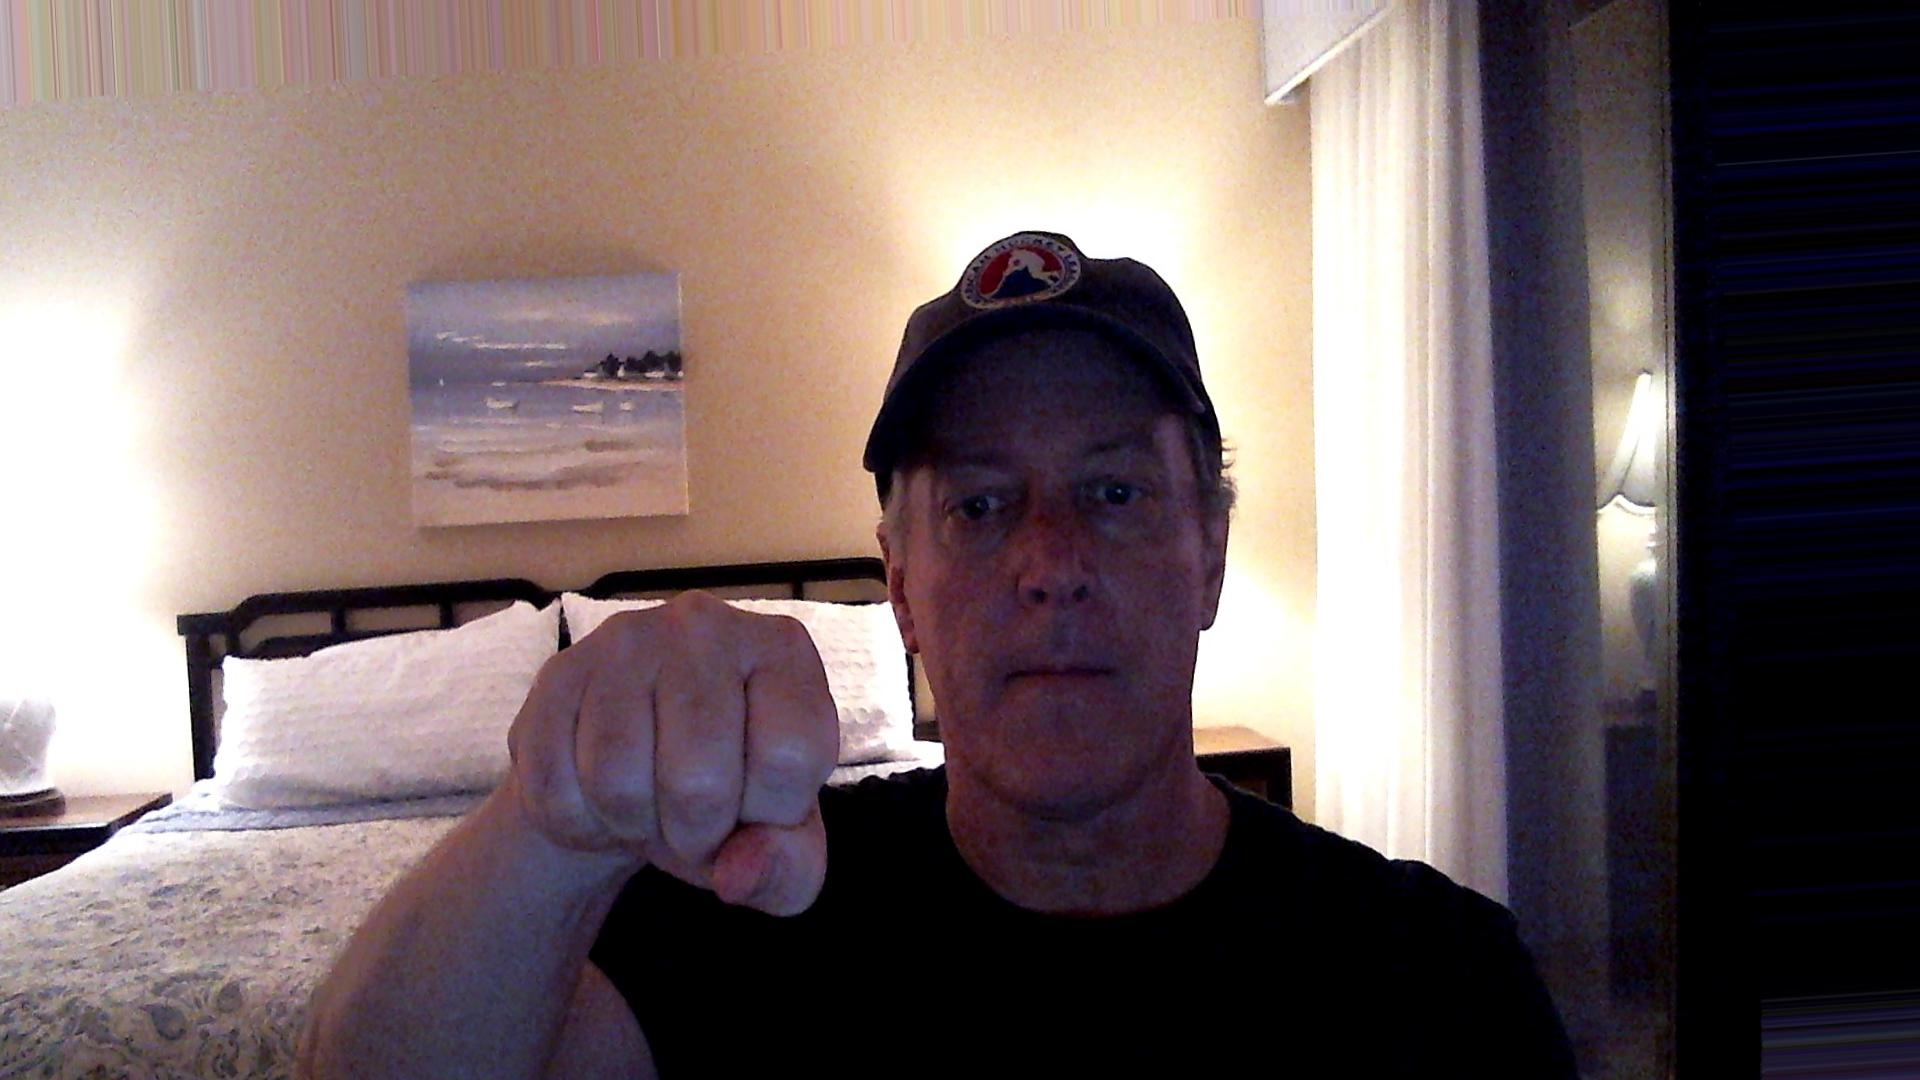Yes: (487, 576, 873, 956)
